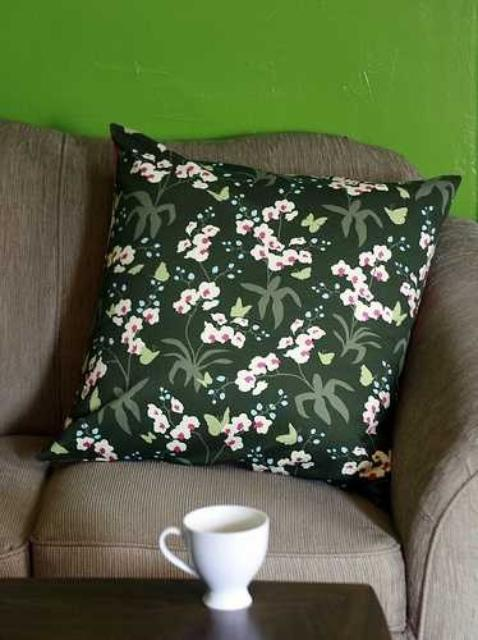pillow: (36, 121, 462, 493)
